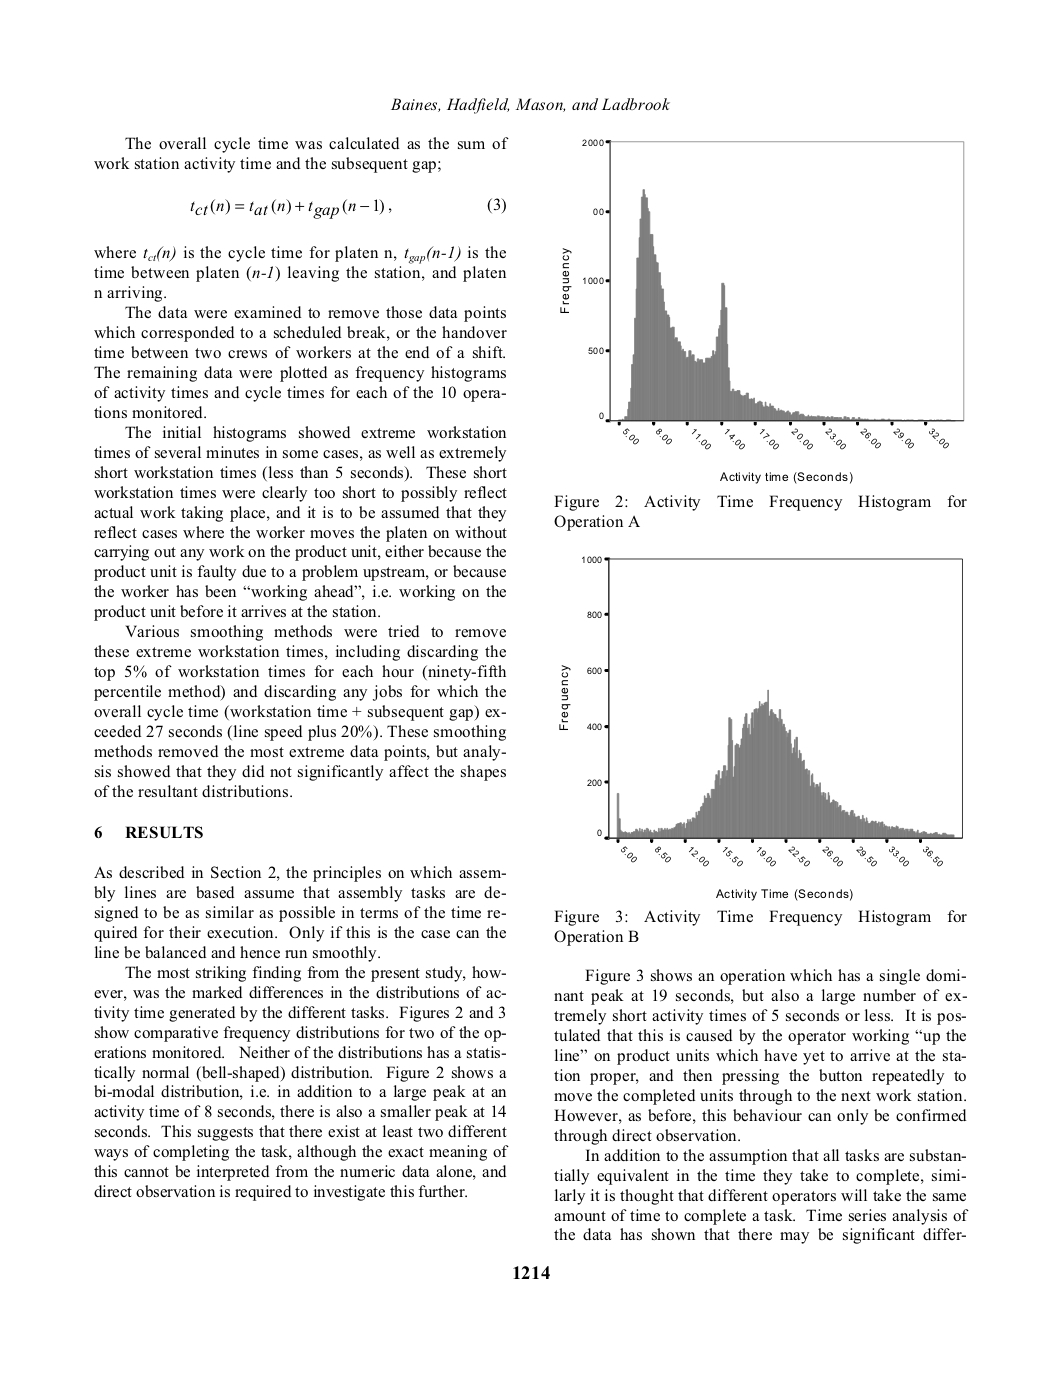figure: (559, 139, 964, 483), (559, 556, 962, 900)
formula: (189, 197, 505, 220)
